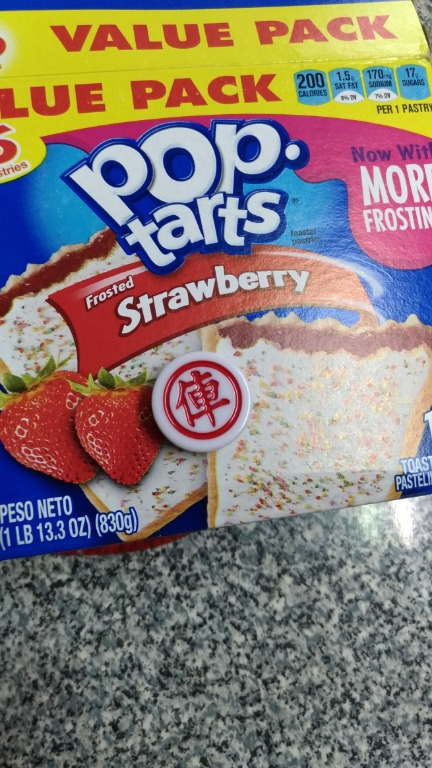r-rook: (136, 341, 274, 464)
